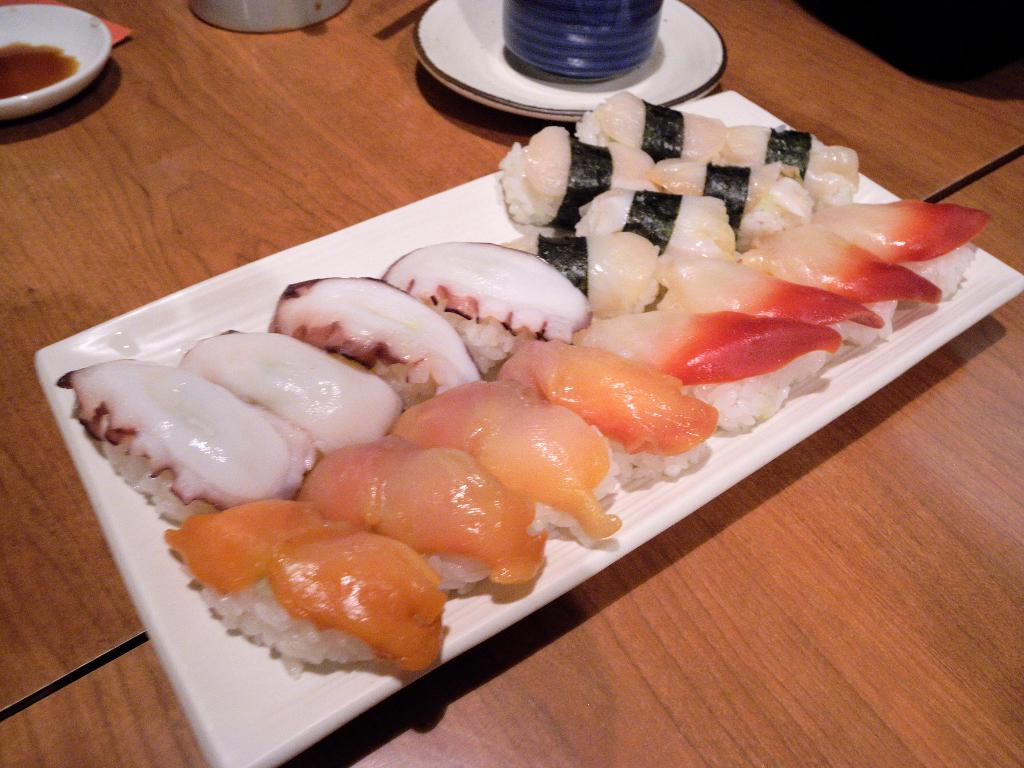sushi: (58, 90, 991, 674), (195, 512, 433, 700), (60, 364, 319, 524)
